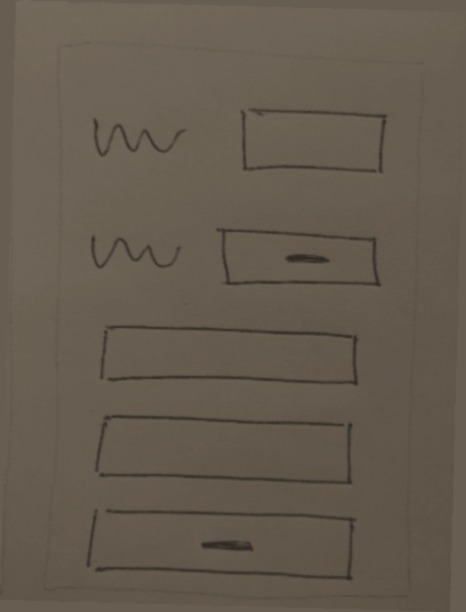button: (82, 502, 364, 587), (209, 217, 386, 297)
text: (85, 101, 189, 173), (84, 221, 189, 285)
text_input: (89, 312, 380, 400), (86, 404, 358, 493), (231, 99, 392, 190)
